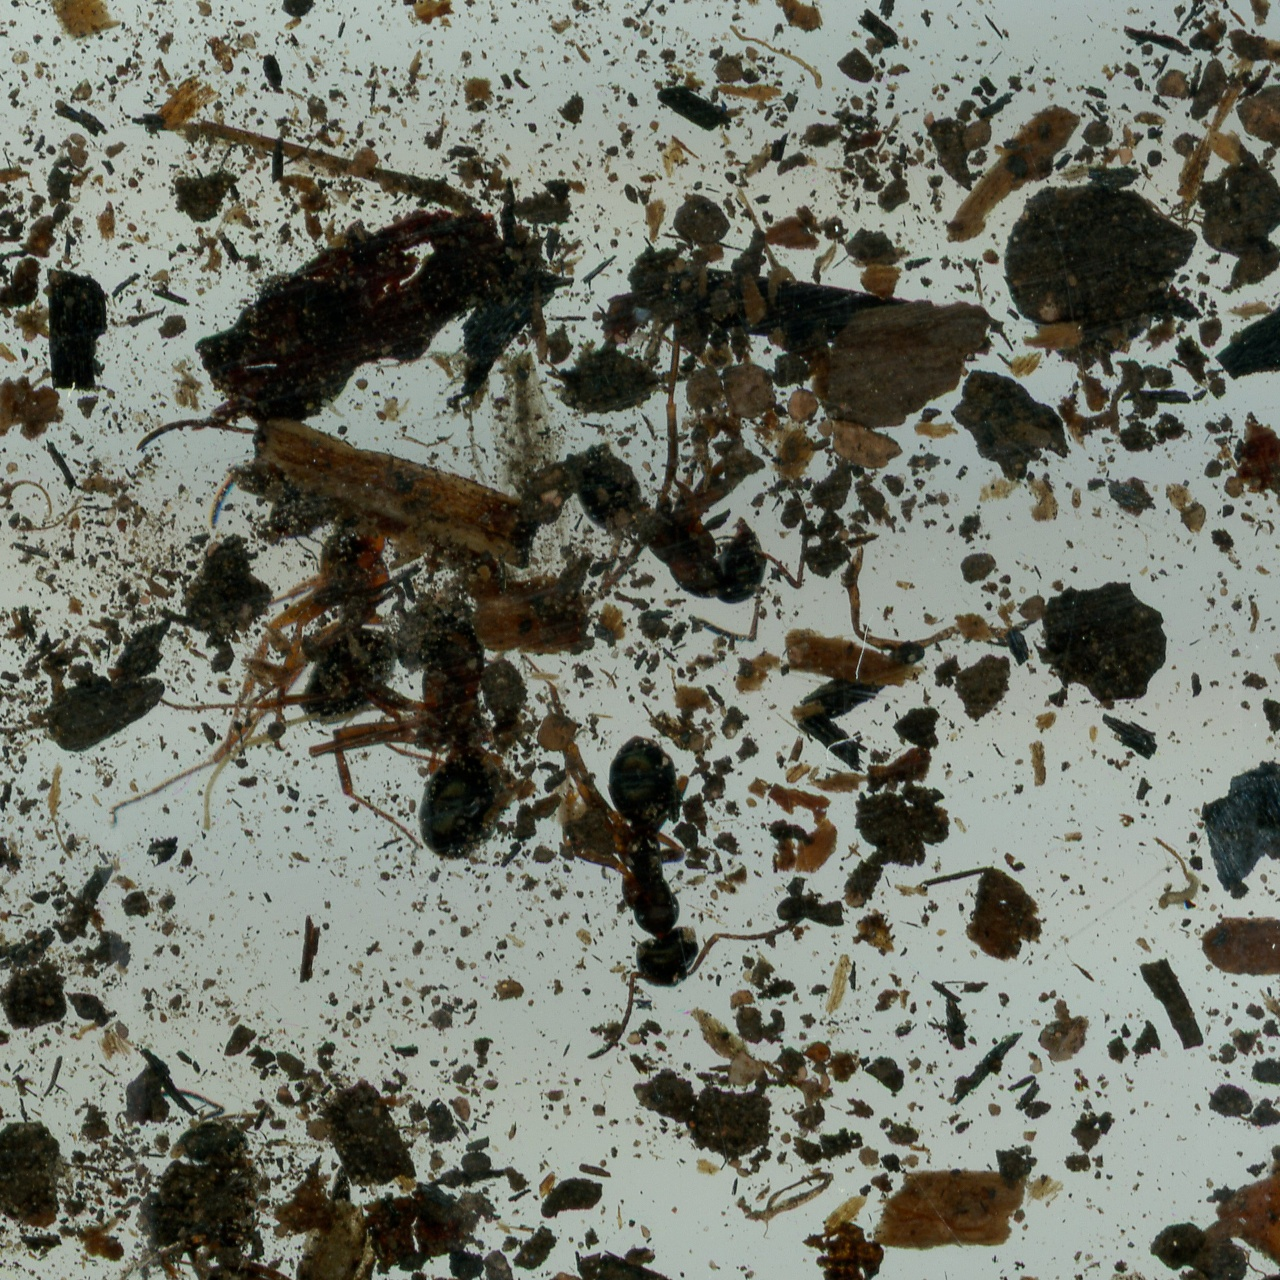arthropod: (134, 1087, 309, 1280)
